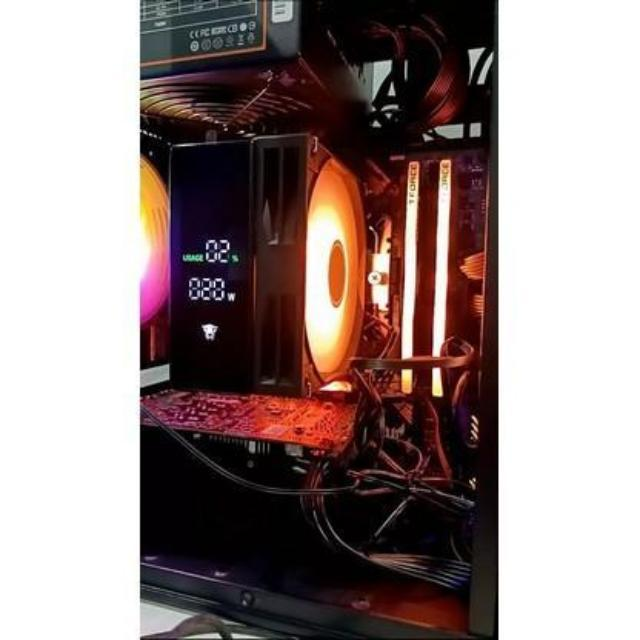CPU_Fan: (162, 136, 364, 392)
PSU: (126, 0, 383, 155)
